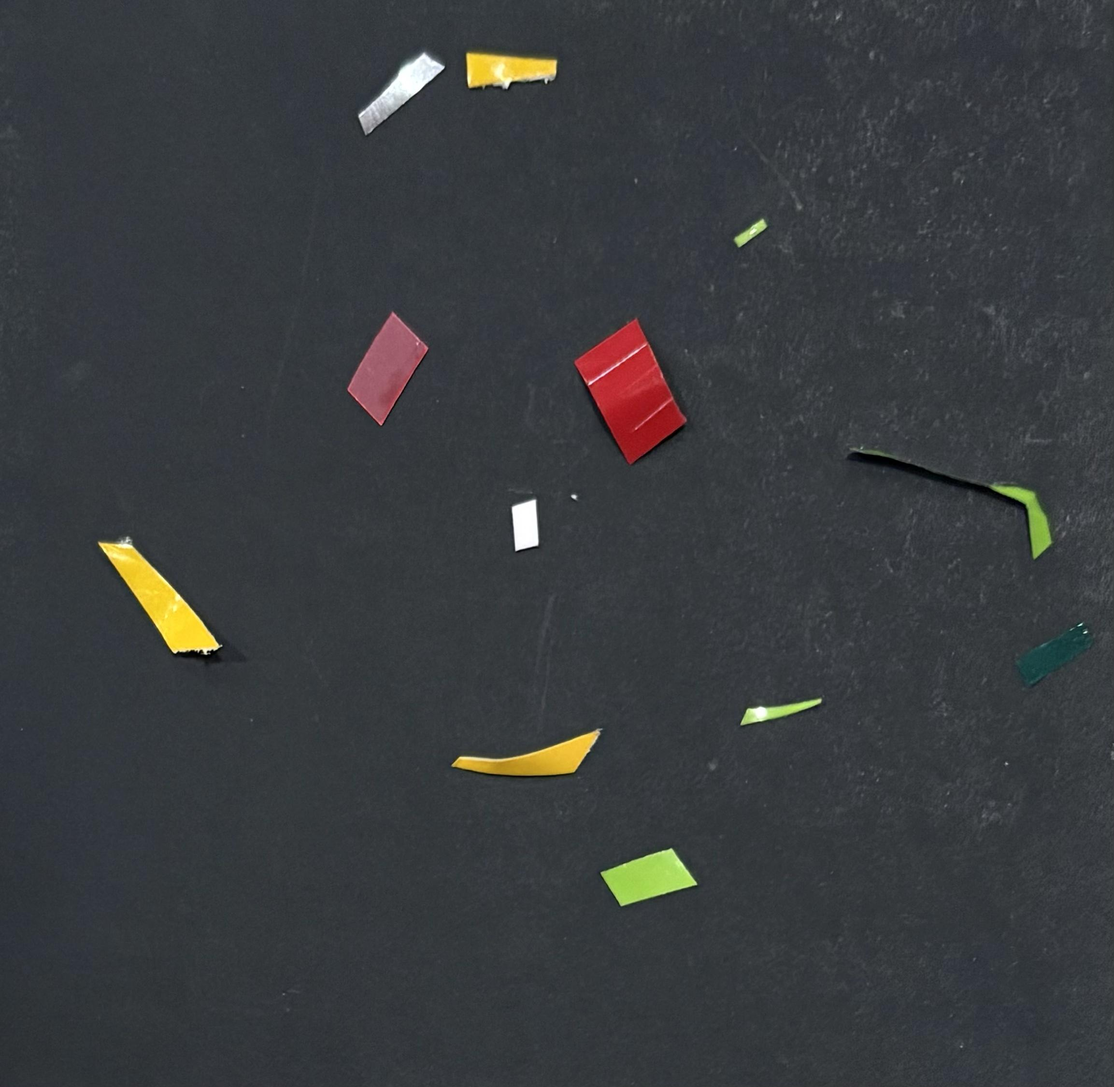Microplastic Particle: (848, 447, 1054, 559), (572, 318, 708, 466), (98, 537, 226, 659), (347, 312, 428, 426), (358, 52, 445, 135), (452, 729, 601, 776), (601, 848, 698, 906), (1015, 623, 1093, 686), (466, 52, 557, 89), (740, 698, 822, 725), (512, 498, 540, 552), (734, 218, 768, 247)
